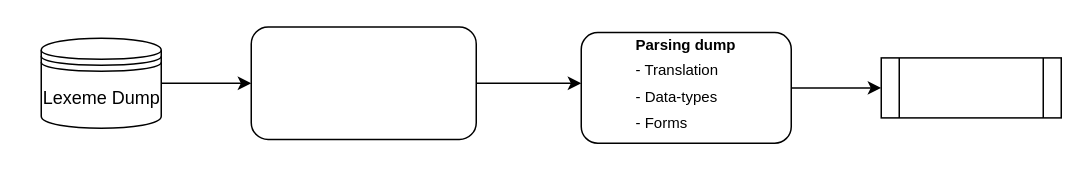
Image size: 1088x170. Some labels were removed from this diagram. The shapes that lost their labels are listed below. From the top down, each one's box as (x1, y1, x2, y2) in pixels, then its label:
(250, 26, 476, 140): Job Downloader - Latest dump - Specific dump (Checks if the dump valid)
(880, 56, 1061, 118): Scribe-Data
